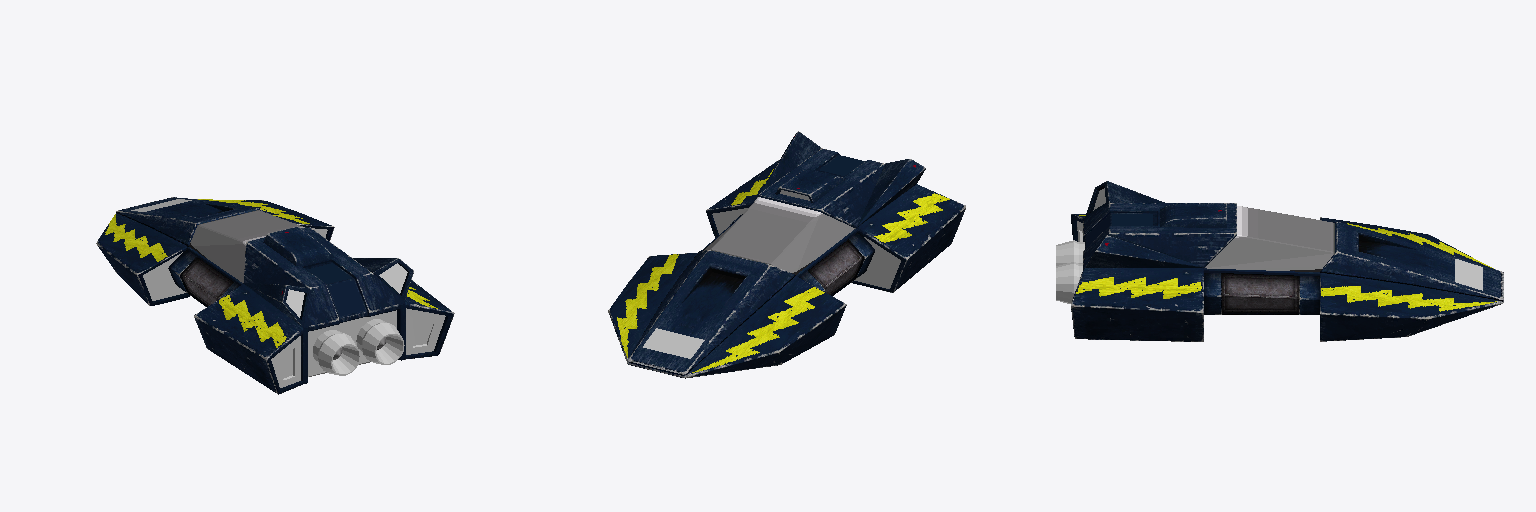
The picture shows the model from 3 angles: view 1: azimuth 30°, elevation 25°; view 2: azimuth 150°, elevation 25°; view 3: azimuth 270°, elevation 25°; orthographic projection.
Visible parts, largest first — view 1: 23_nightthunder_a; view 2: 23_nightthunder_a; view 3: 23_nightthunder_a.
Part boxes in pixels (bbox=[...]): 23_nightthunder_a: bbox=[96, 197, 454, 394]; 23_nightthunder_a: bbox=[608, 131, 965, 378]; 23_nightthunder_a: bbox=[1056, 181, 1503, 341].
Size of the model in its own units: 2.38 by 1.08 by 4.57.
Materials: 19 (5 with a texture image).